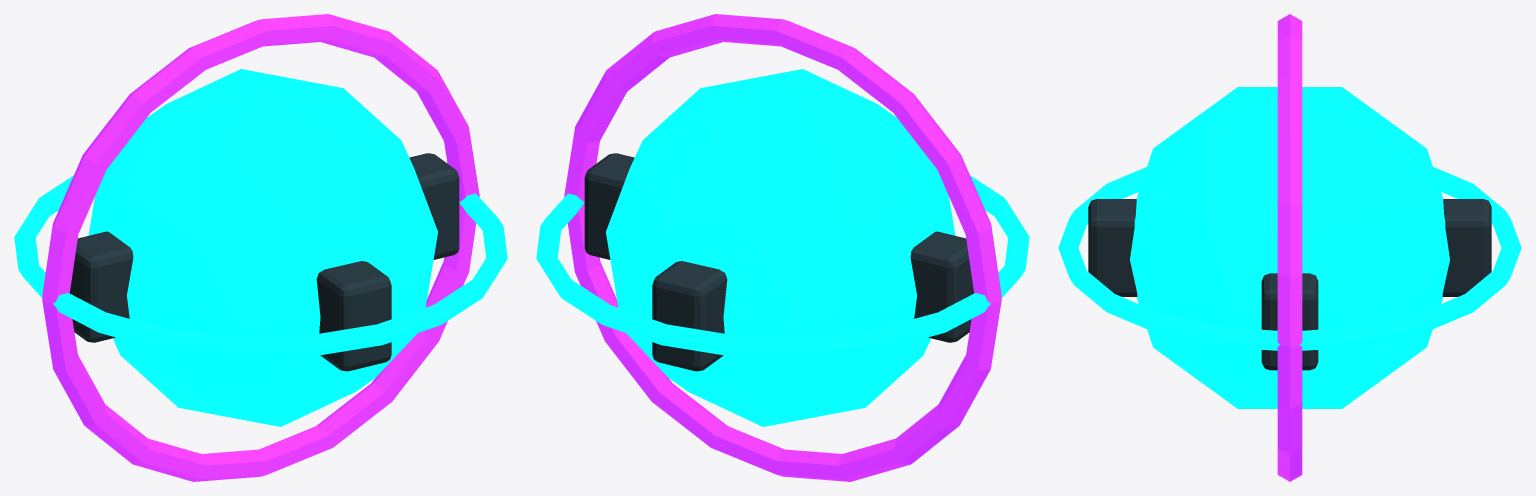
The model's file is Energy-Core.glb.
The picture shows the model from 3 angles, left to right: view 1: azimuth 30°, elevation 25°; view 2: azimuth 150°, elevation 25°; view 3: azimuth 270°, elevation 25°; orthographic projection. The views are drawn at different scales.
Visible parts, largest first — view 1: EnergyCore_Faceted, EnergyCore_Ring_X, EnergyCore_Ring_Z, EnergyCore_Grip_3, EnergyCore_Grip_2, EnergyCore_Grip_0; view 2: EnergyCore_Faceted, EnergyCore_Ring_X, EnergyCore_Ring_Z, EnergyCore_Grip_1, EnergyCore_Grip_2, EnergyCore_Grip_0; view 3: EnergyCore_Faceted, EnergyCore_Ring_Z, EnergyCore_Ring_X, EnergyCore_Grip_1, EnergyCore_Grip_3, EnergyCore_Grip_0.
Boxes of the visible parts, bbox=[...] form: EnergyCore_Faceted: bbox=[88, 69, 437, 426]; EnergyCore_Ring_X: bbox=[42, 14, 479, 481]; EnergyCore_Ring_Z: bbox=[14, 175, 507, 358]; EnergyCore_Grip_3: bbox=[316, 261, 391, 371]; EnergyCore_Grip_2: bbox=[69, 231, 133, 342]; EnergyCore_Grip_0: bbox=[409, 153, 459, 259]; EnergyCore_Faceted: bbox=[606, 69, 955, 426]; EnergyCore_Ring_X: bbox=[564, 14, 1001, 481]; EnergyCore_Ring_Z: bbox=[536, 175, 1029, 358]; EnergyCore_Grip_1: bbox=[652, 261, 727, 371]; EnergyCore_Grip_2: bbox=[910, 231, 974, 342]; EnergyCore_Grip_0: bbox=[584, 153, 634, 259]; EnergyCore_Faceted: bbox=[1130, 87, 1449, 408]; EnergyCore_Ring_Z: bbox=[1058, 167, 1521, 350]; EnergyCore_Ring_X: bbox=[1277, 14, 1302, 481]; EnergyCore_Grip_1: bbox=[1442, 199, 1491, 296]; EnergyCore_Grip_3: bbox=[1088, 199, 1137, 296]; EnergyCore_Grip_0: bbox=[1261, 273, 1318, 370].
Bounding box in the file's own units: 1.17 × 1.17 × 1.15.
